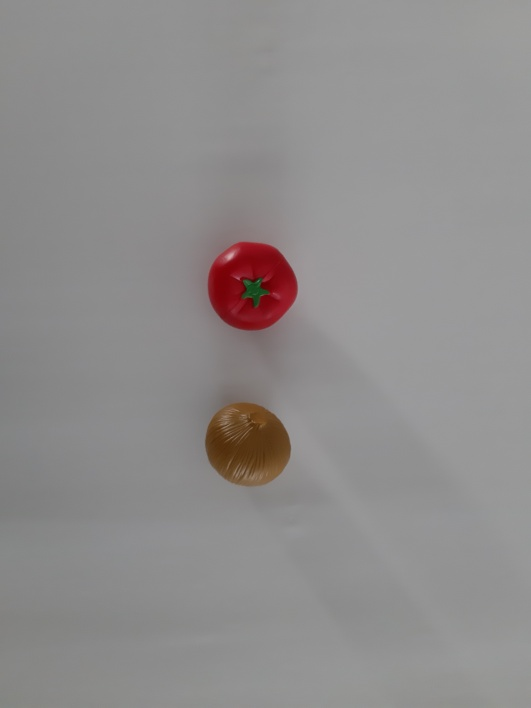onion: (194, 395, 305, 496)
tomato: (200, 232, 311, 354)
